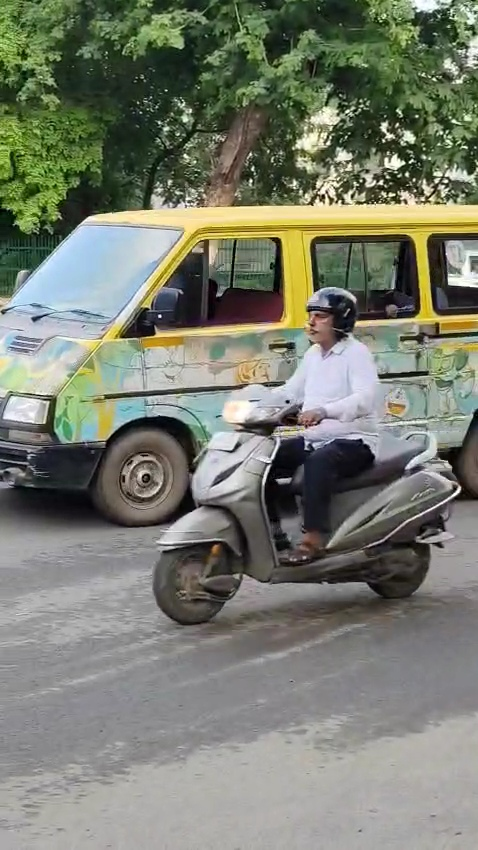BikeWithRider: (140, 277, 467, 633)
Helmet: (295, 280, 365, 345)
